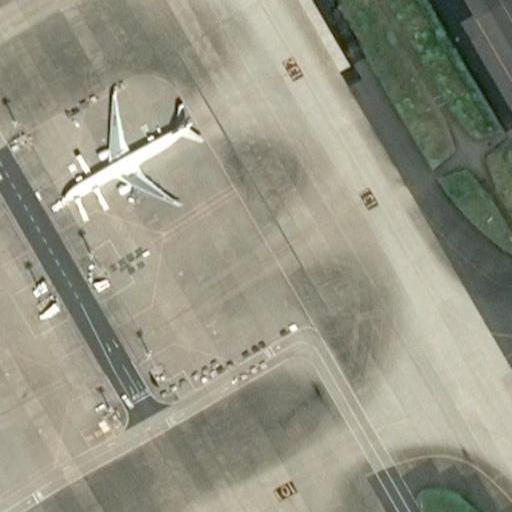Aircraft: (53, 88, 202, 213)
